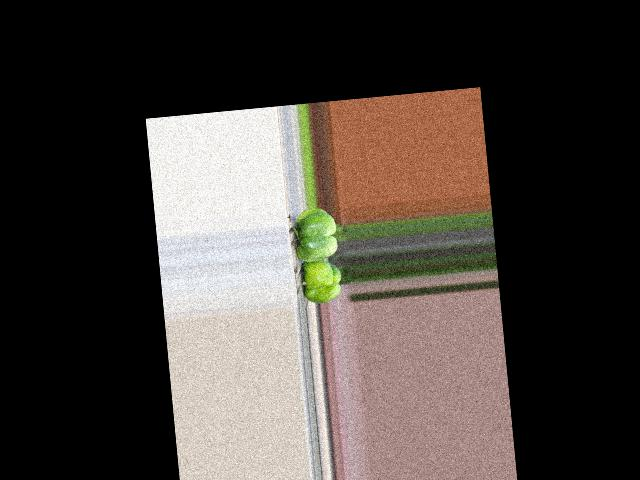bell_pepper: (297, 257, 345, 306)
